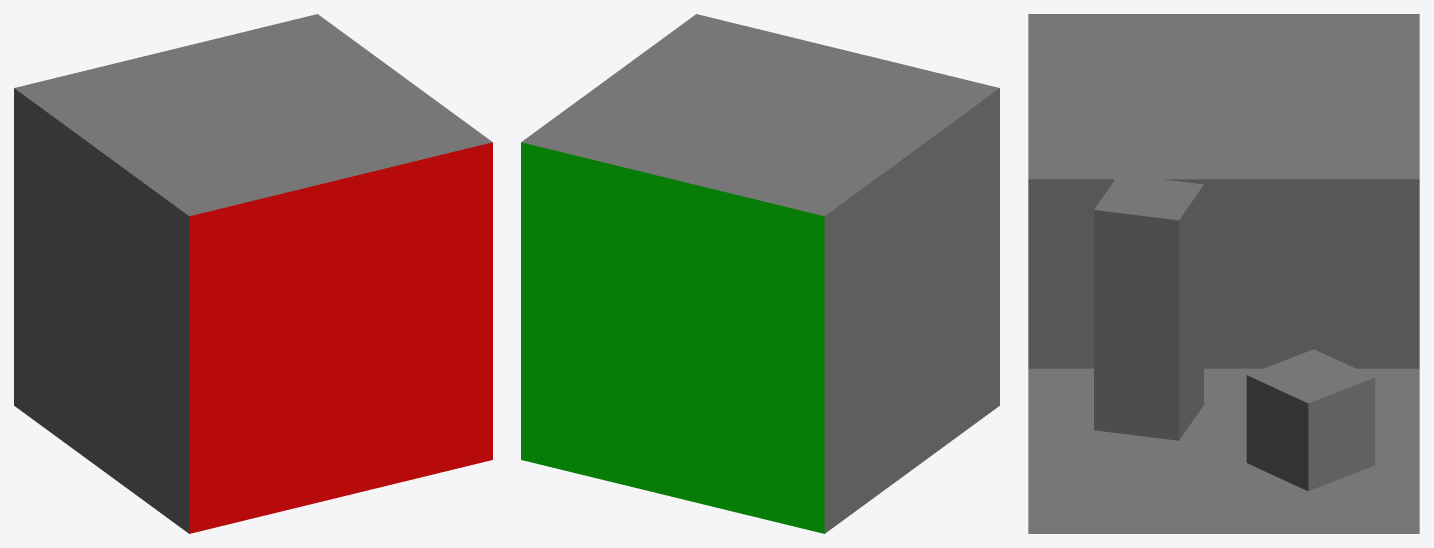
Rendered from cornellBig.obj.
3 renders of one model, left to right at view 1: azimuth 30°, elevation 25°; view 2: azimuth 150°, elevation 25°; view 3: azimuth 270°, elevation 25°, orthographic. The views are drawn at different scales.
Parts seen in each view (by area): view 1: group1 polySurface4, group1 polySurface3; view 2: group1 polySurface4, group1 polySurface2; view 3: group1 polySurface4, group1 pCube2, group1 pCube3.
Part boxes in pixels (x1,y1,x2,y2): group1 polySurface4: (14, 14, 492, 533); group1 polySurface3: (189, 142, 492, 533); group1 polySurface4: (521, 14, 999, 533); group1 polySurface2: (521, 142, 824, 533); group1 polySurface4: (1028, 14, 1419, 533); group1 pCube2: (1094, 179, 1203, 440); group1 pCube3: (1246, 349, 1375, 491).
Bounding box in the file's own units: 107 × 107 × 107.
